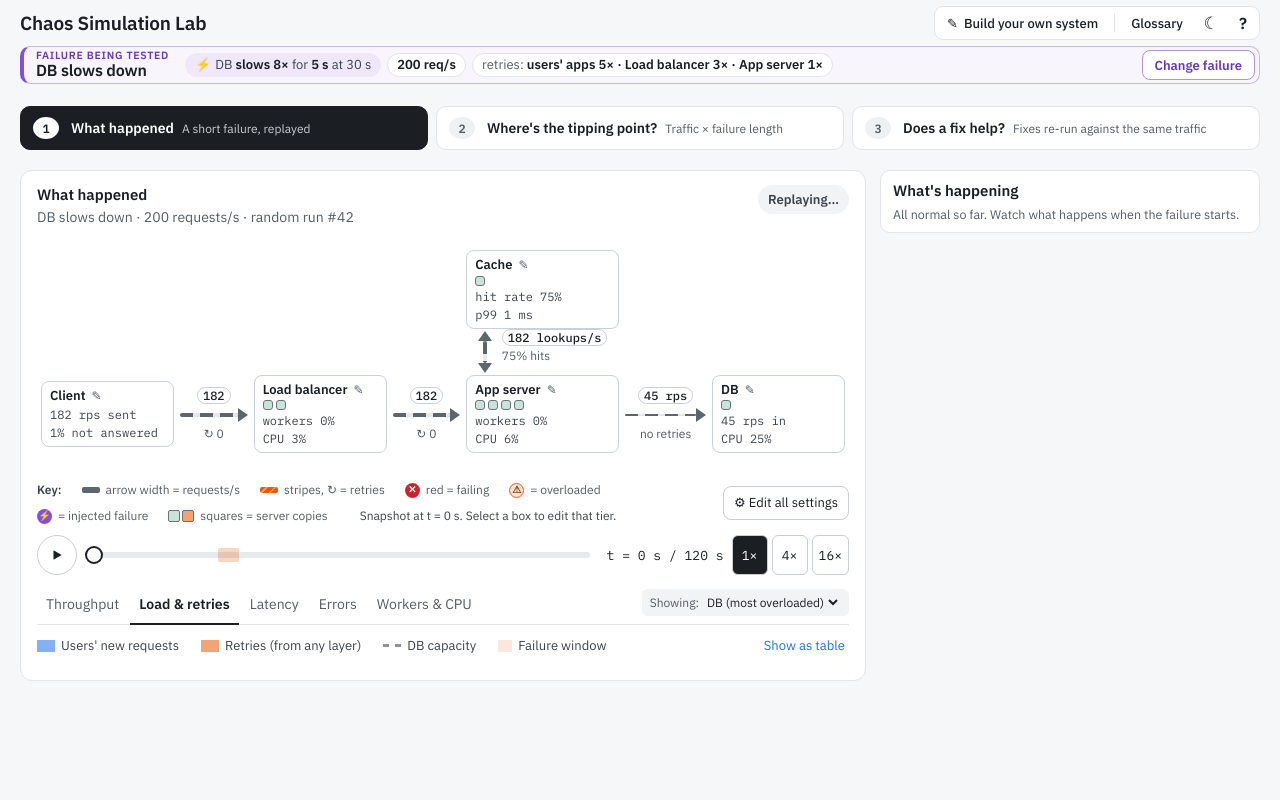
Scenario: App › opens one tier's settings from its box in the topology
Expected: the heading "What happened" is shown, [37,185,147,204]
Click the button with aria-label "Edit App server settings": (543, 414) [466,375,619,453]
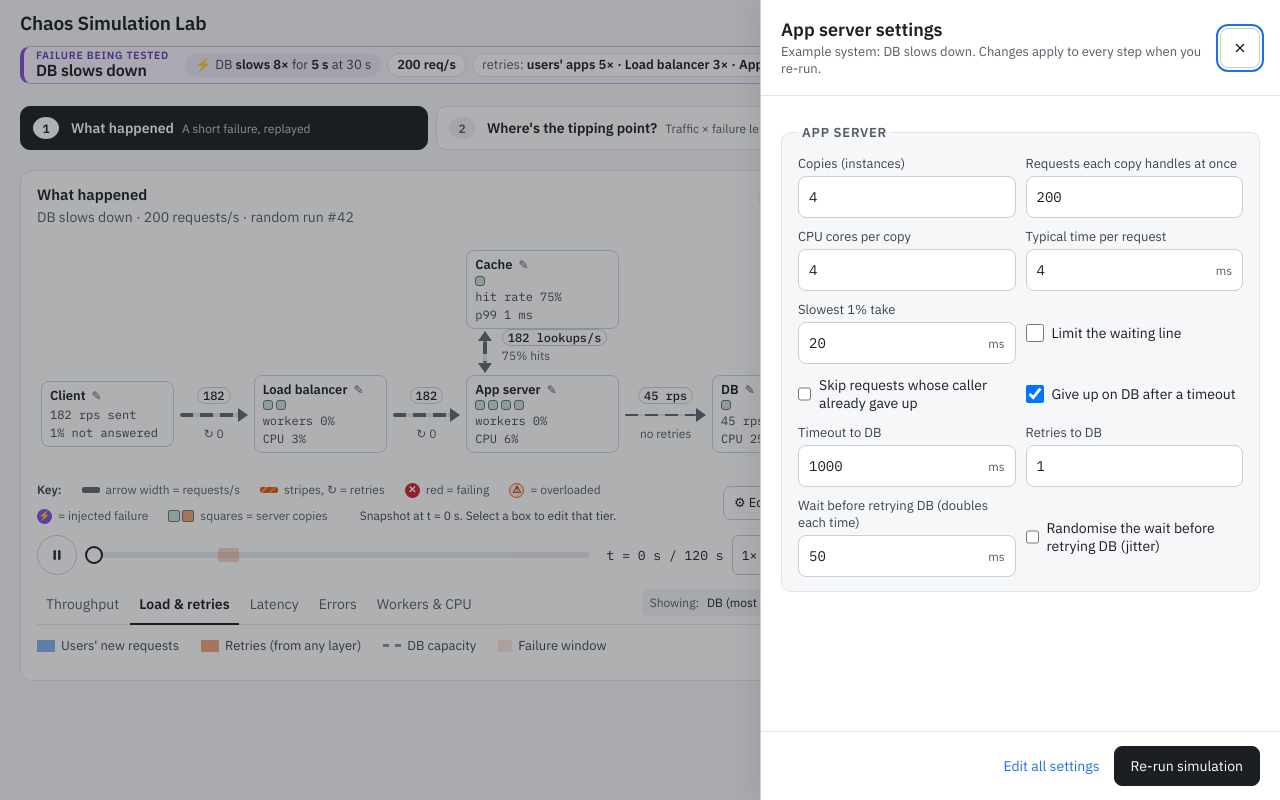
Expected: the element "App server" is shown, [781,124,1260,592]
Click the button "Edit all settings": (1051, 766) [999,746,1104,786]
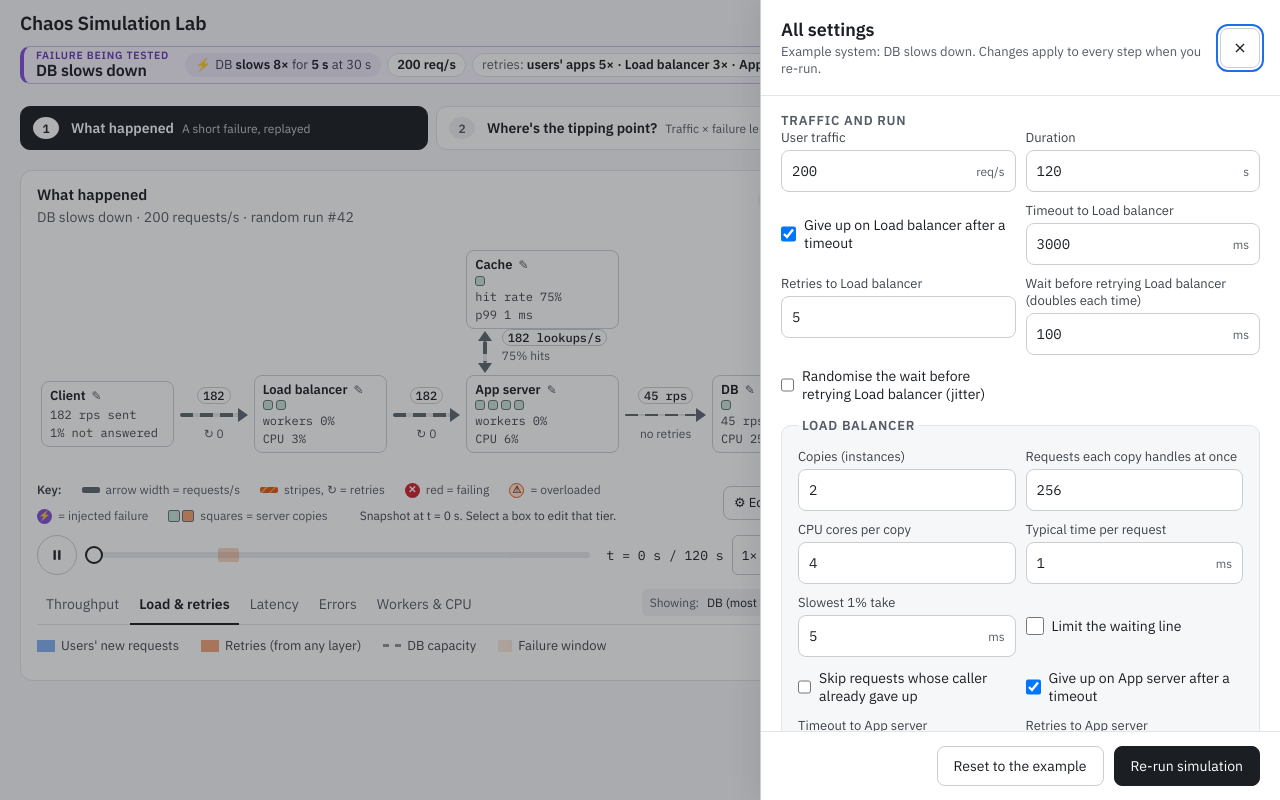
Expected: the dialog "All settings" is shown, [760,0,1279,799]
Click the button named "Close All settings": (1240, 48) [1220,28,1260,68]
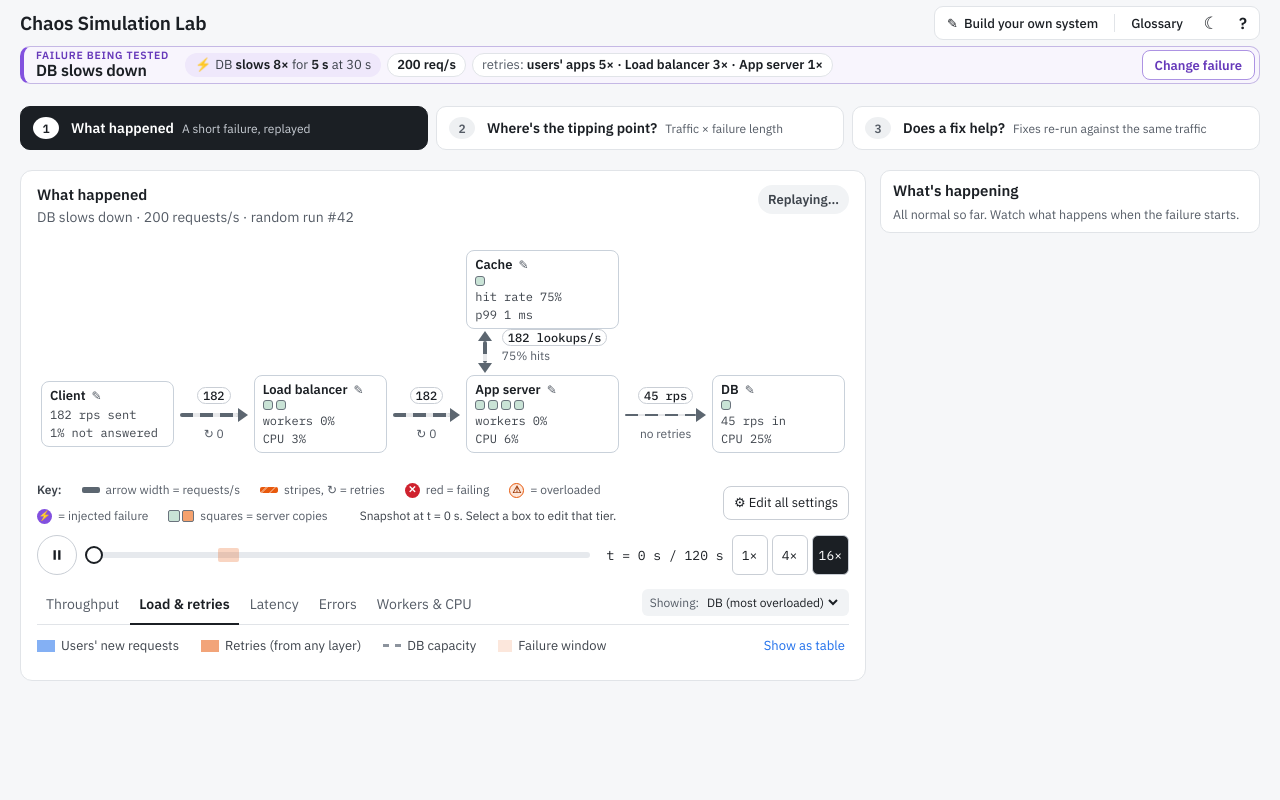
Click the button with aria-label "Edit Client settings": (107, 414) [41,381,174,447]
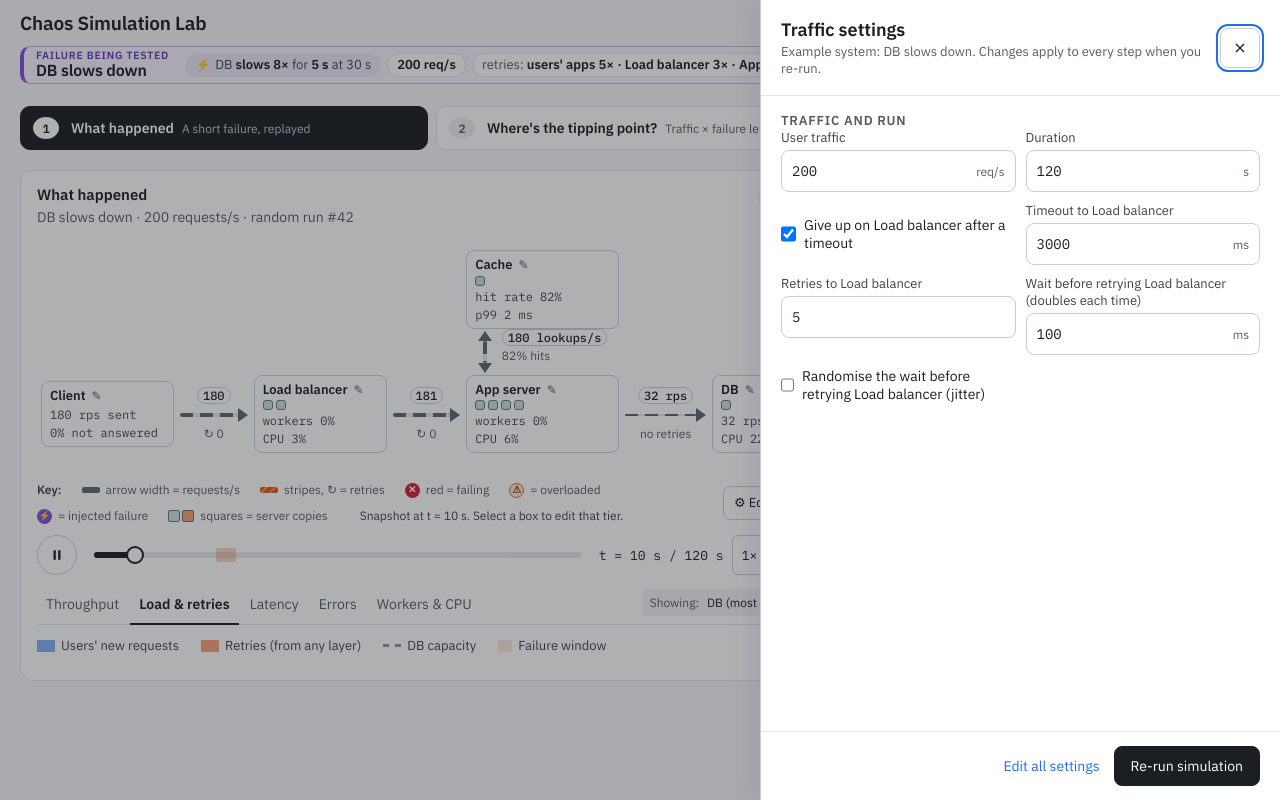
Expected: the number field labelled "User traffic req/s" is shown, [792,152,970,190]
